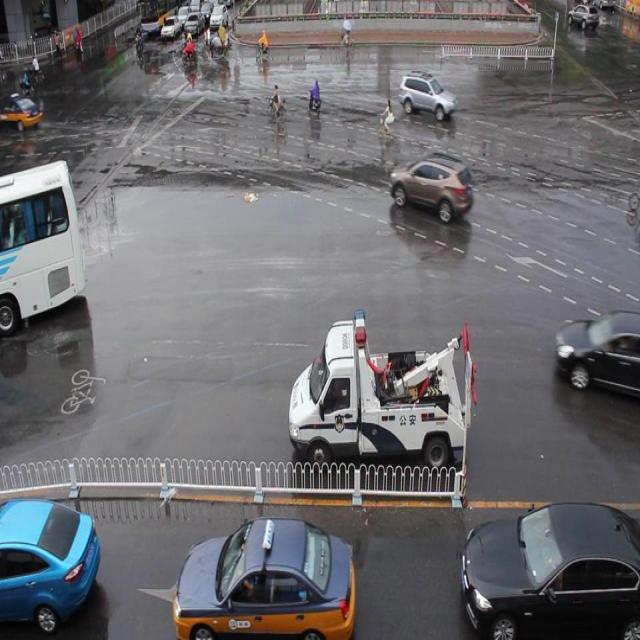bus: (289, 308, 476, 474)
car: (459, 498, 640, 640), (174, 515, 356, 640), (1, 494, 101, 640), (553, 311, 640, 398), (388, 151, 473, 222), (398, 68, 455, 119)
van: (0, 162, 89, 335)
